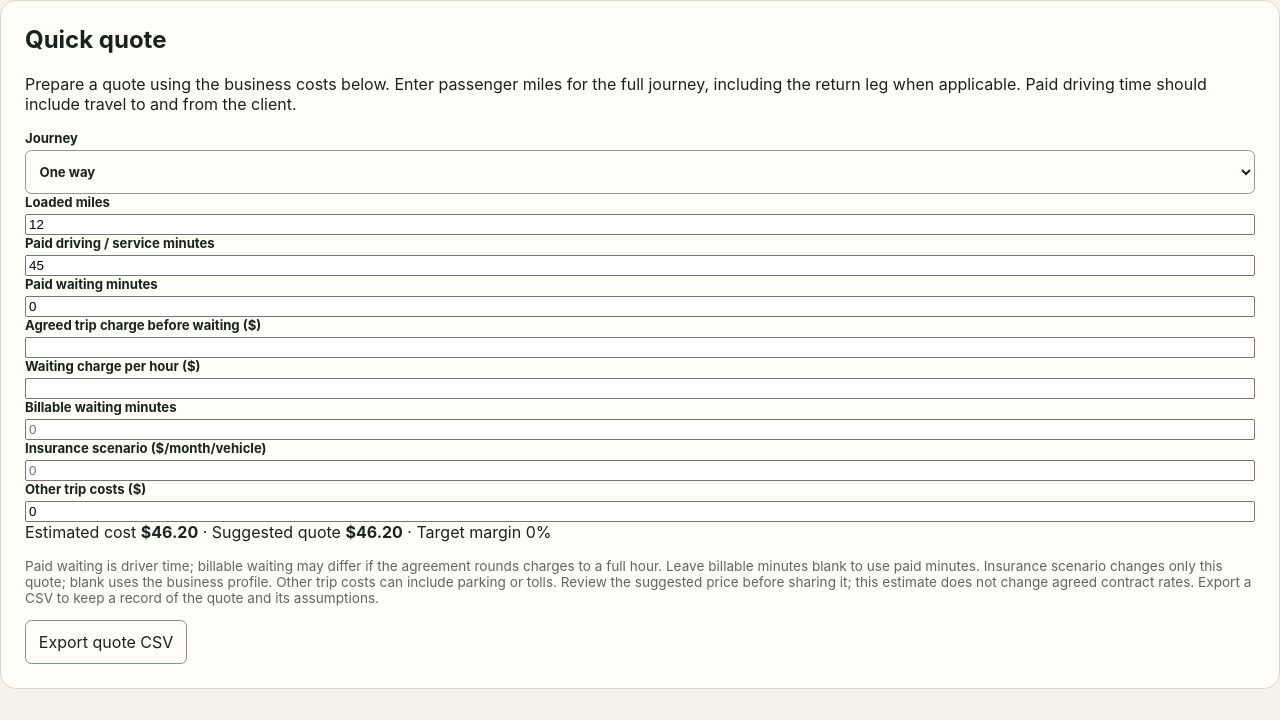
Scenario: separates the customer waiting charge from paid waiting cost
The image size is (1280, 720).
Replace the text in the number field labelled "Loaded miles" with "0". click: (640, 224)
box: [25,214,1255,235]
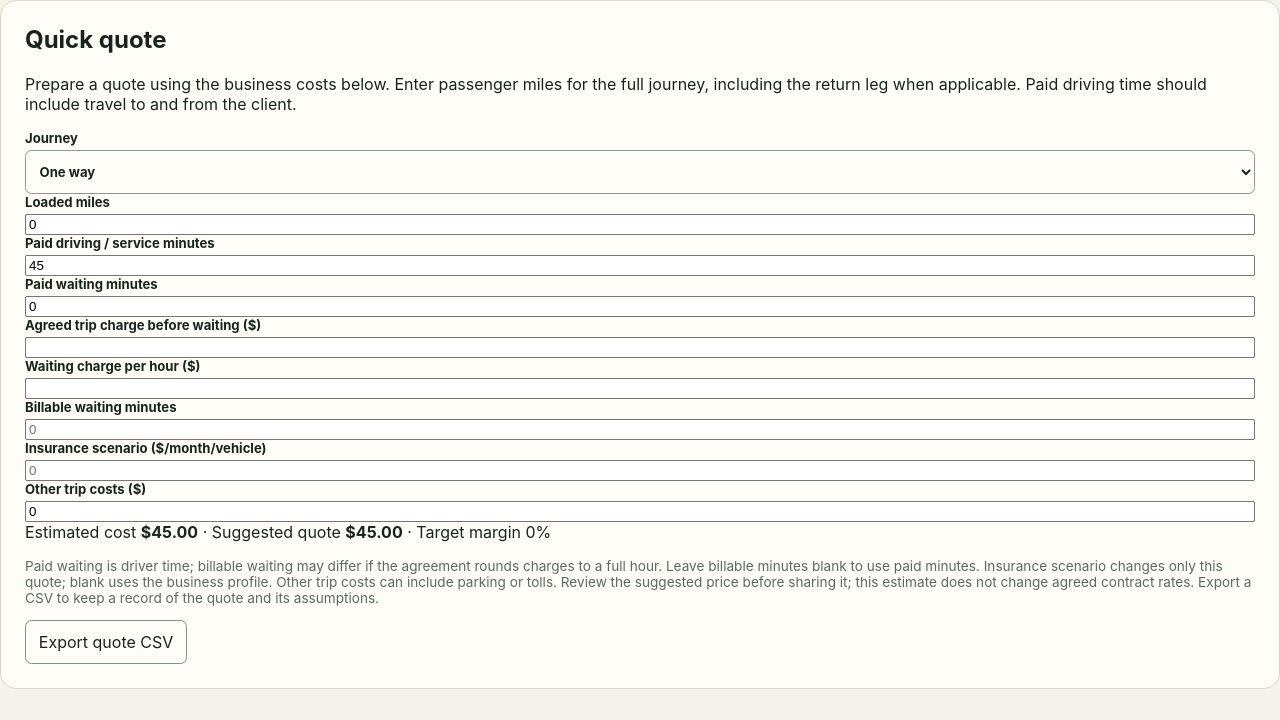
Replace the text in the number field labelled "Paid driving / service minutes" with "0". click: (640, 265)
box: [25,255,1255,276]
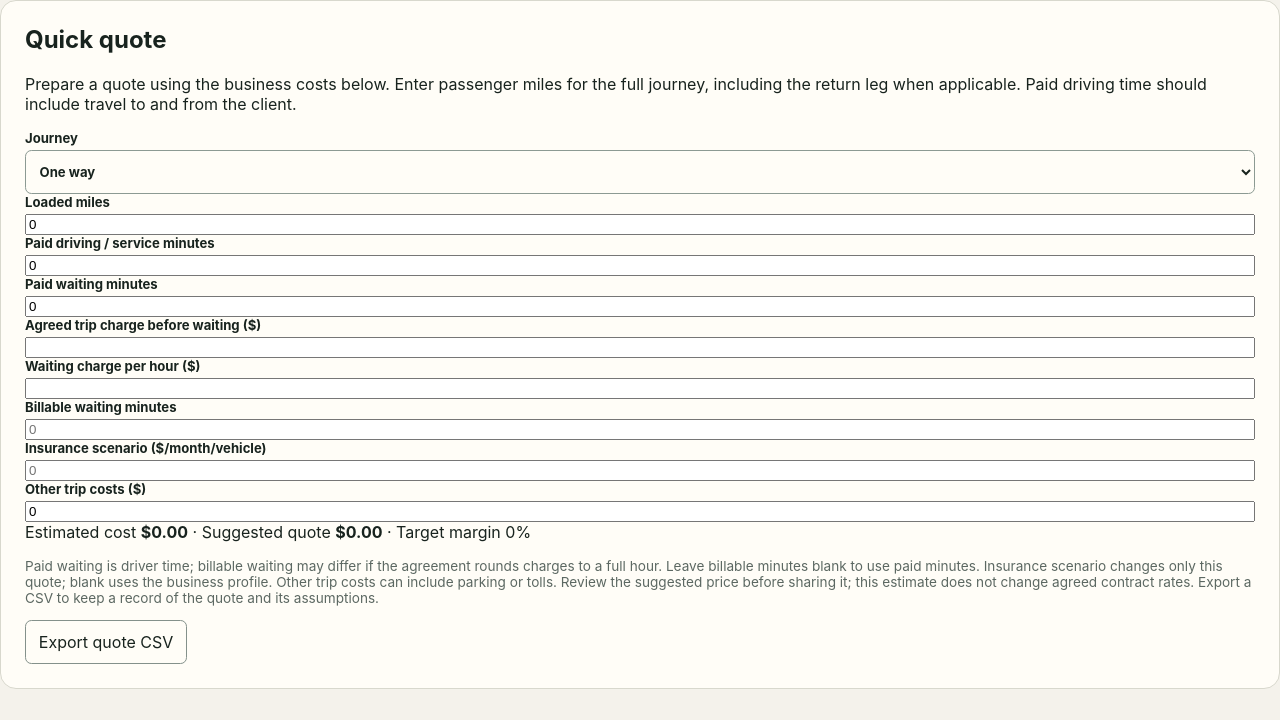
Replace the text in the number field labelled "Paid waiting minutes" with "55". click: (640, 306)
box: [25,296,1255,317]
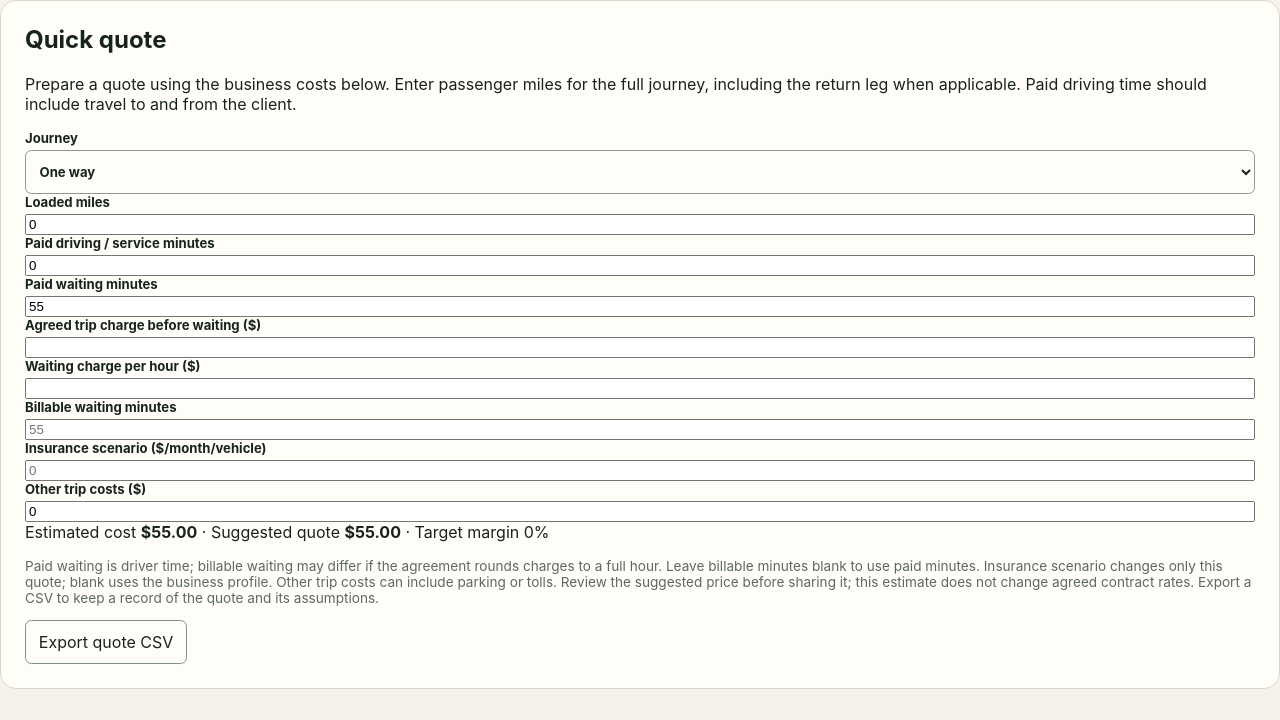
Type "340" into the number field labelled "Agreed trip charge before waiting ($)". click: (640, 347)
box: [25,337,1255,358]
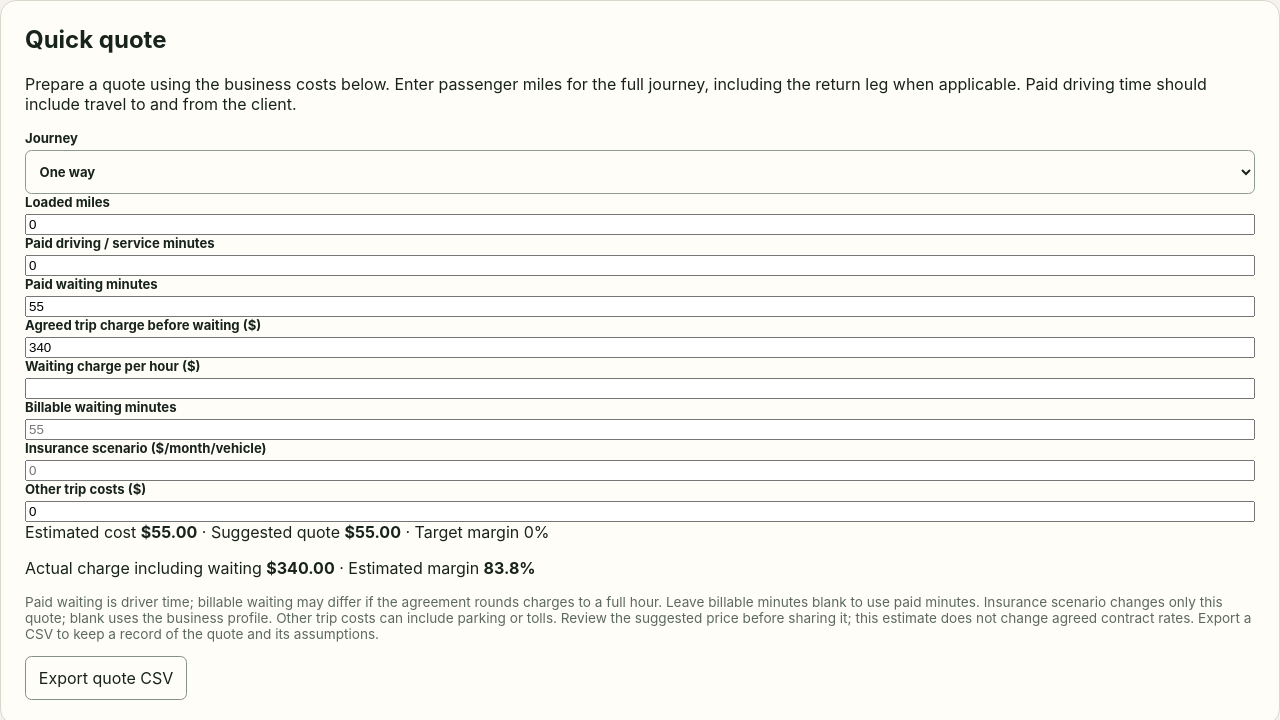
Type "65" into the number field labelled "Waiting charge per hour ($)". click: (640, 388)
box: [25,378,1255,399]
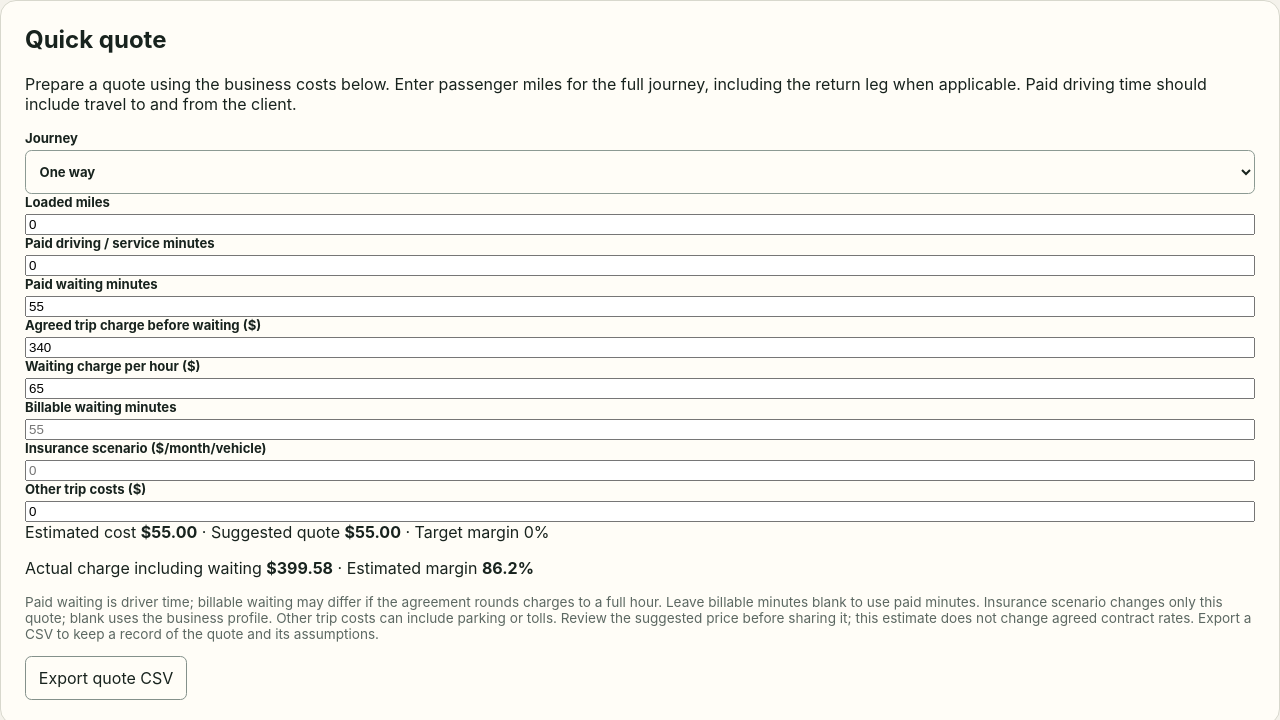
Type "60" into the number field labelled "Billable waiting minutes". click: (640, 429)
box: [25,419,1255,440]
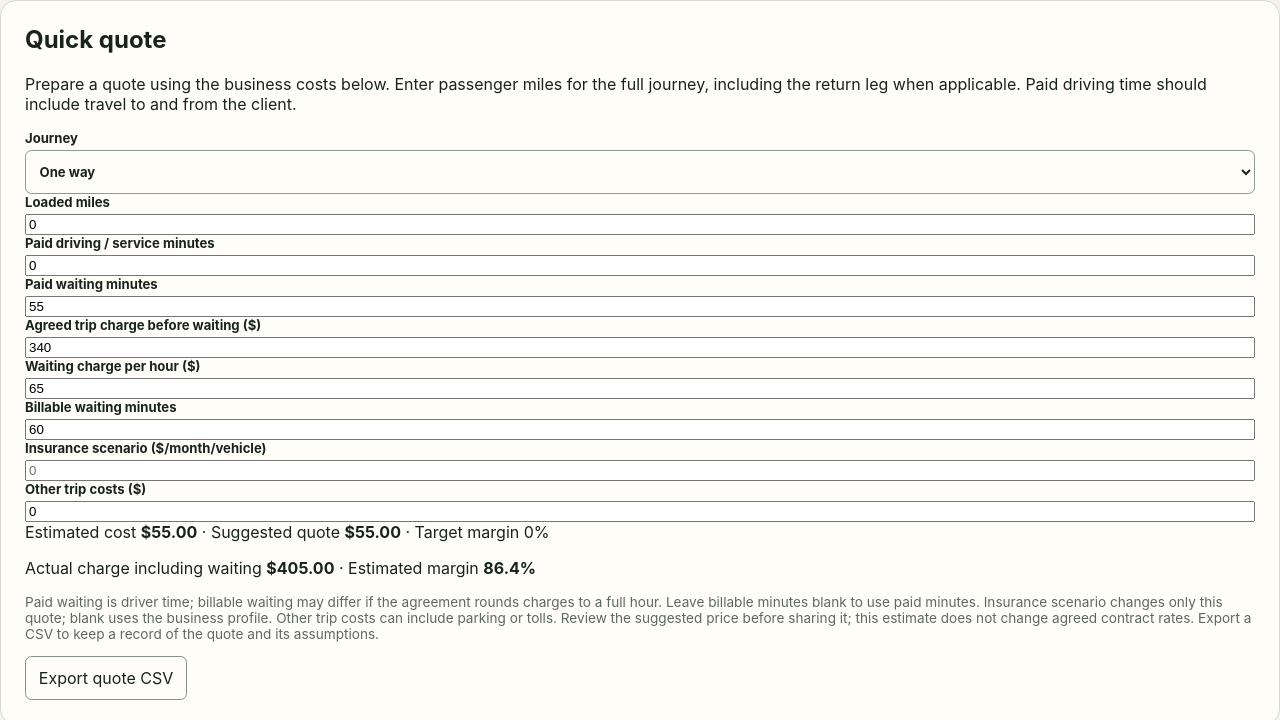
Now the text "$405.00" is shown, box [266,558,334,578]
Now the text "86.4%" is shown, box [483,558,536,578]
